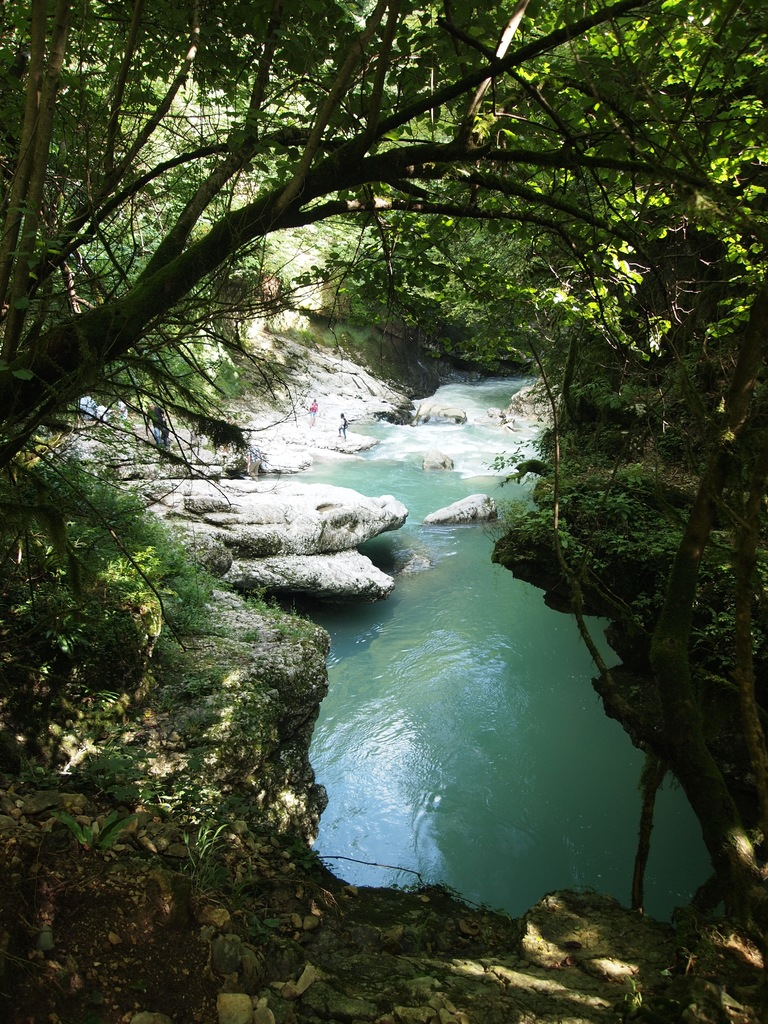Tree: (0, 0, 768, 925)
